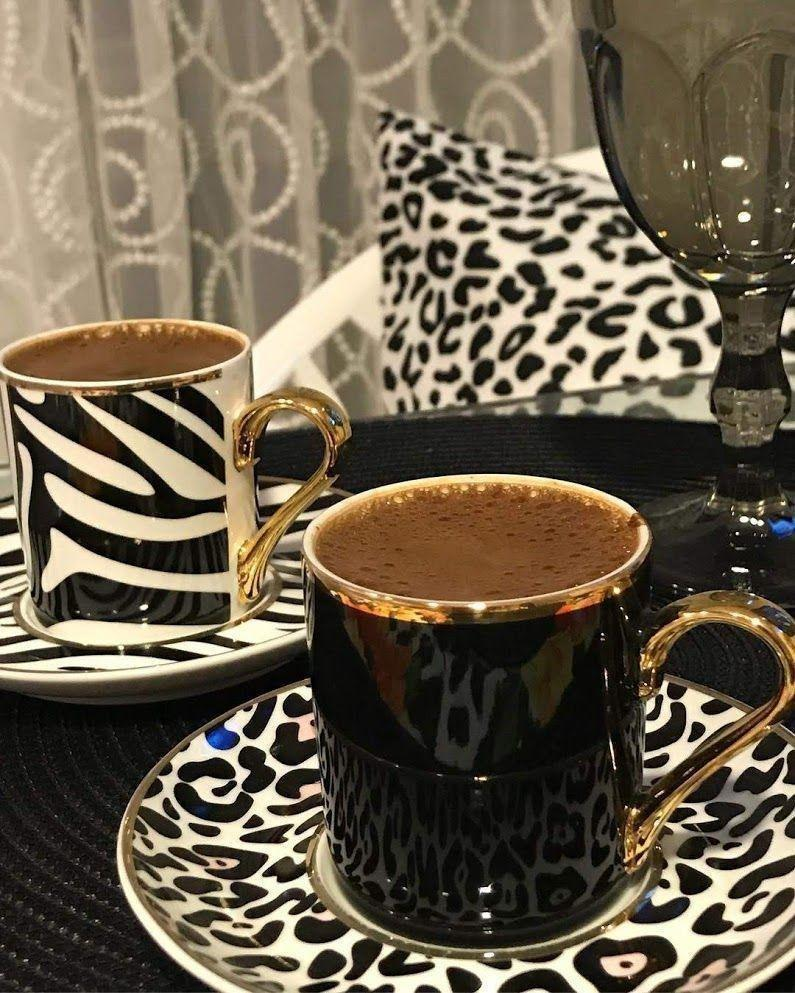cup-handle: (294, 472, 794, 965), (1, 315, 351, 649)
glass-wine: (575, 1, 794, 613)
